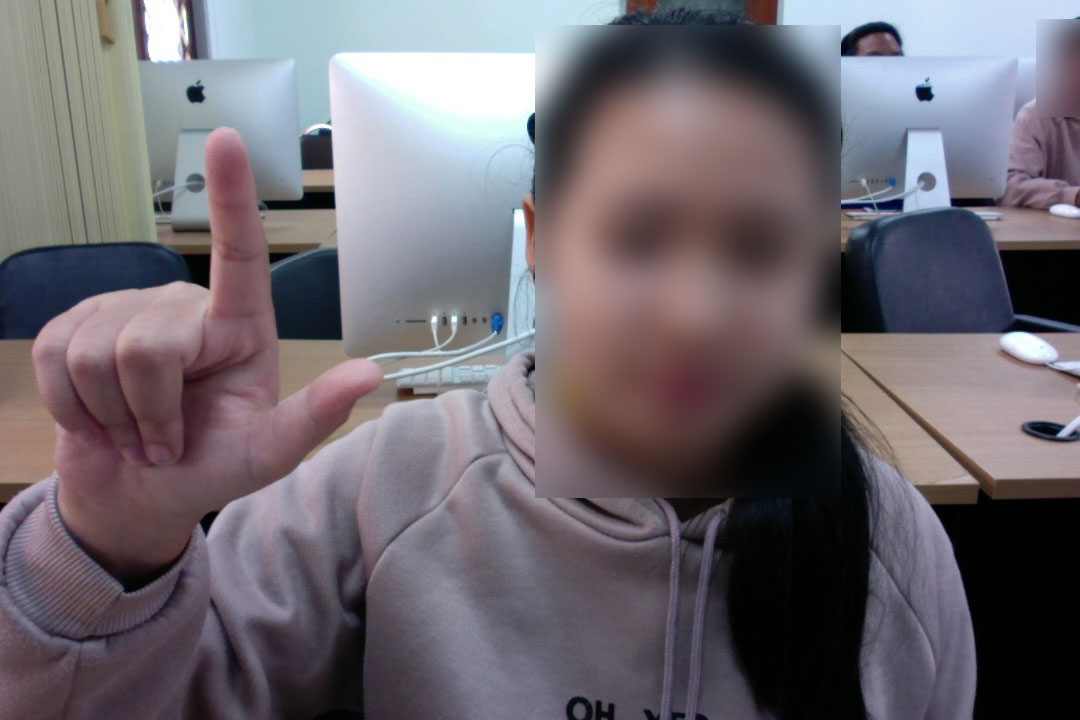lor: (24, 123, 392, 547)
